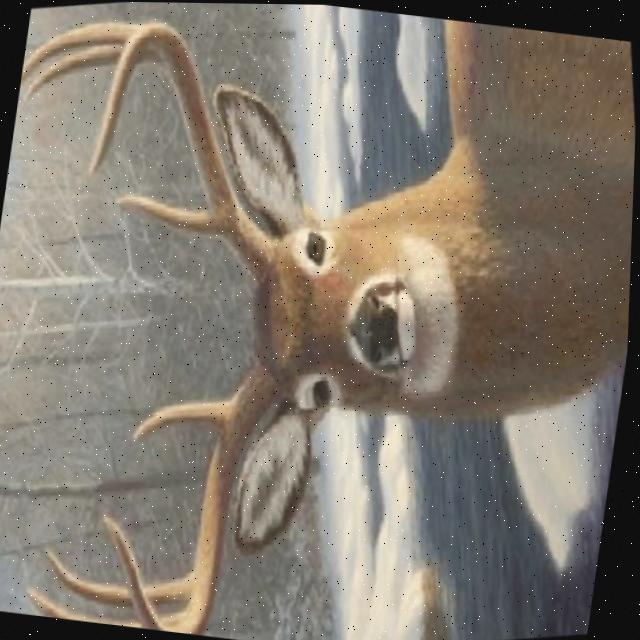L-F: (105, 355, 282, 634)
L-G1: (134, 397, 232, 445)
R-F: (87, 16, 279, 282)
R-G1: (116, 192, 223, 236)
